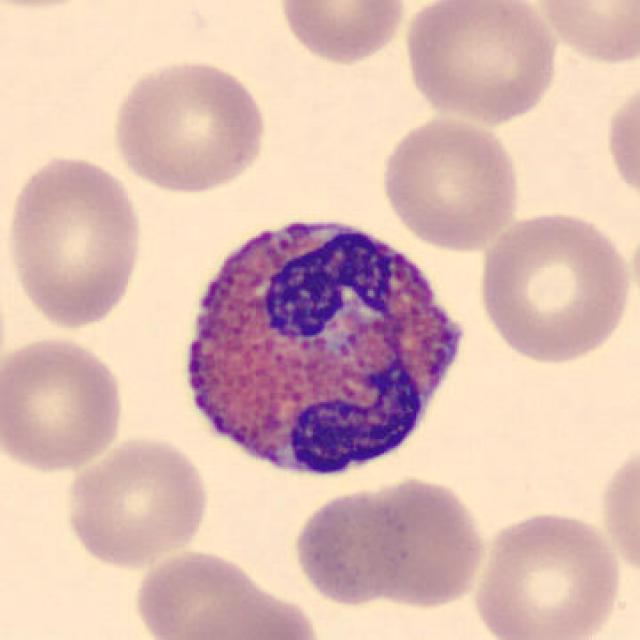Eosinophil: (166, 198, 478, 497)
RBC: (2, 148, 148, 333), (474, 205, 634, 366), (107, 54, 270, 196), (60, 432, 212, 569), (469, 506, 624, 640), (377, 113, 524, 254), (400, 0, 562, 125), (346, 473, 491, 610), (0, 333, 128, 474), (290, 485, 414, 608), (132, 545, 272, 640), (274, 0, 411, 67), (169, 587, 322, 640), (531, 0, 640, 67), (597, 435, 640, 582), (602, 74, 640, 211), (0, 0, 112, 14)
